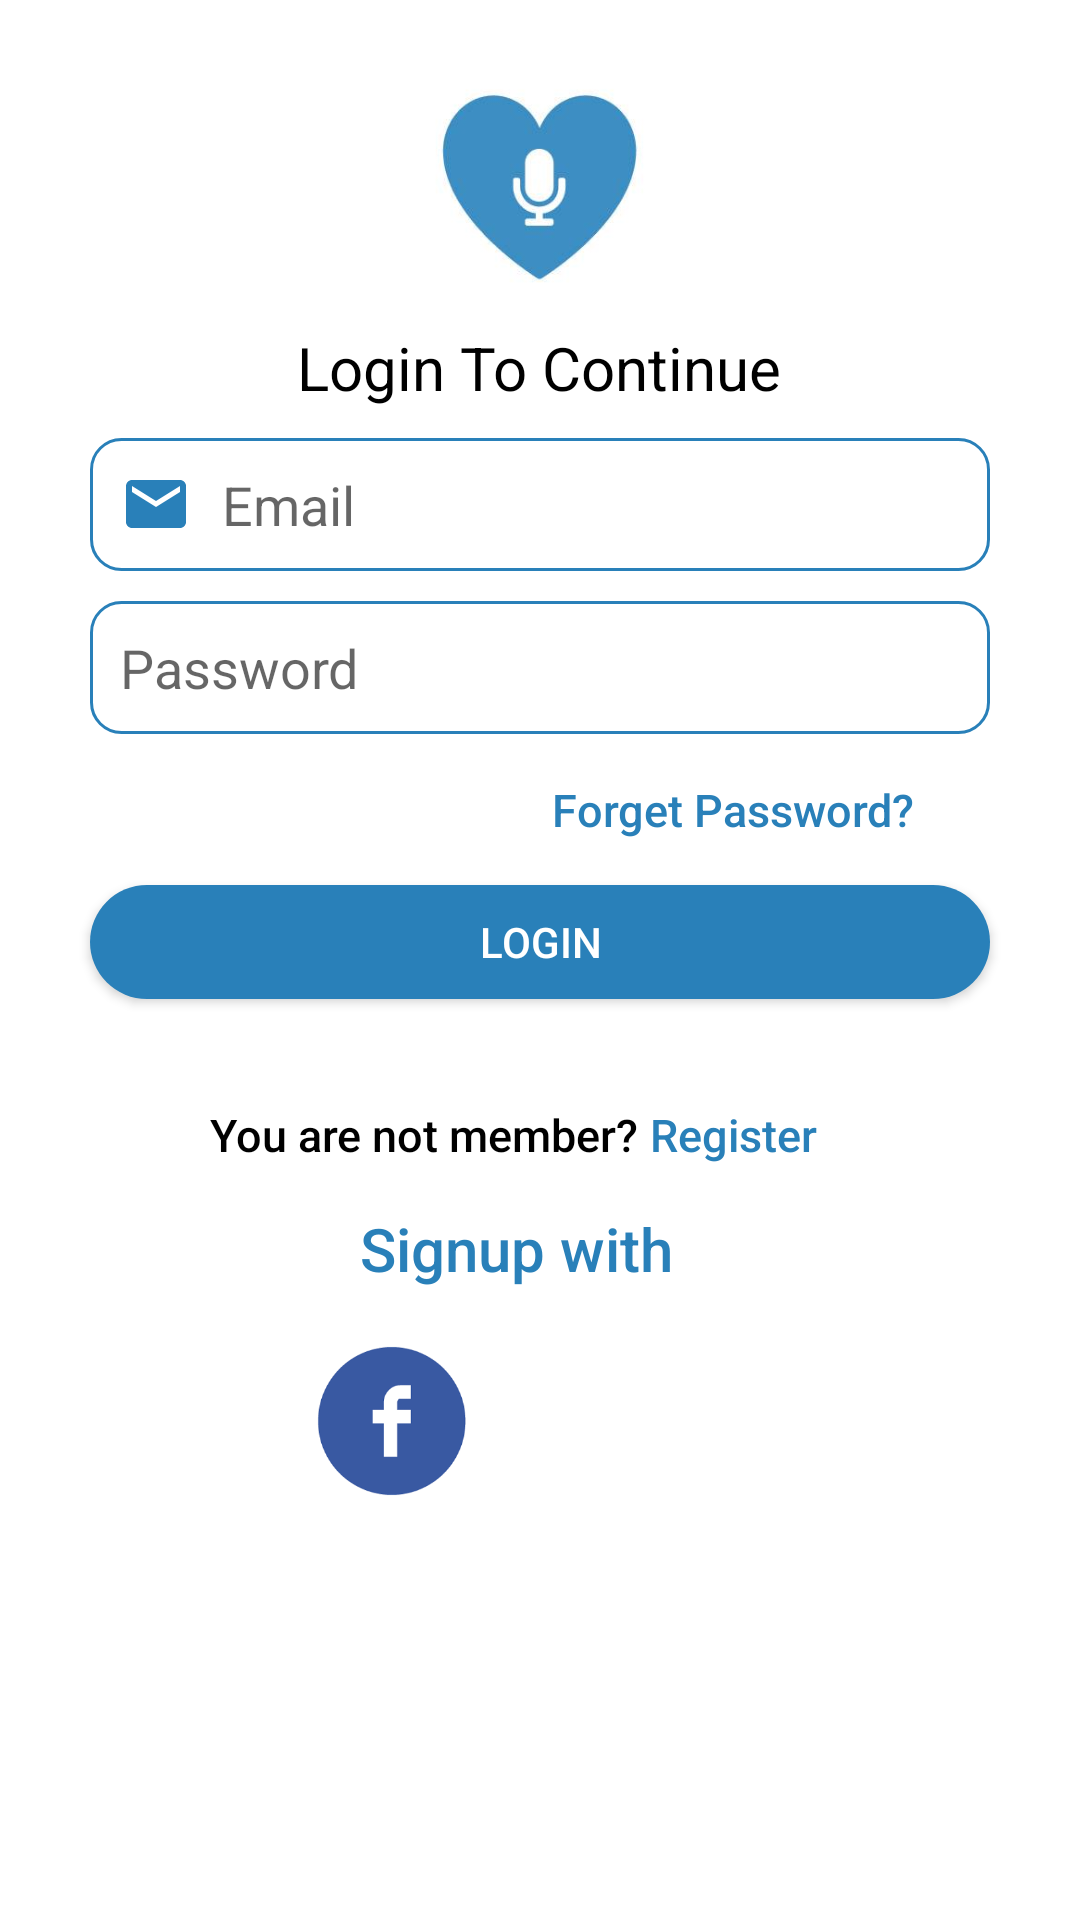

Screen size 1080×1920. Icon name, then its box in pixels as (x1, y1, x2, y2):
bluerecoedheart: (442, 95, 637, 280)
